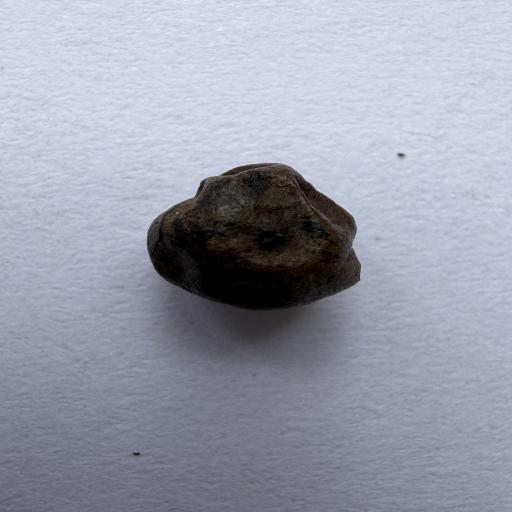Black_pepper: (136, 146, 370, 311)
